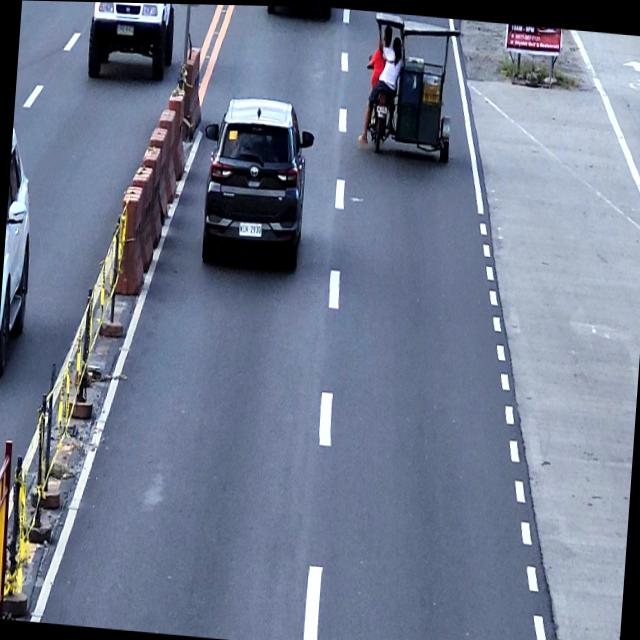Car: (196, 91, 316, 273), (0, 124, 38, 384), (86, 2, 177, 84)
License-Plate: (238, 220, 262, 237), (115, 22, 134, 36), (375, 103, 387, 113)
Tricycle: (362, 10, 460, 162)
